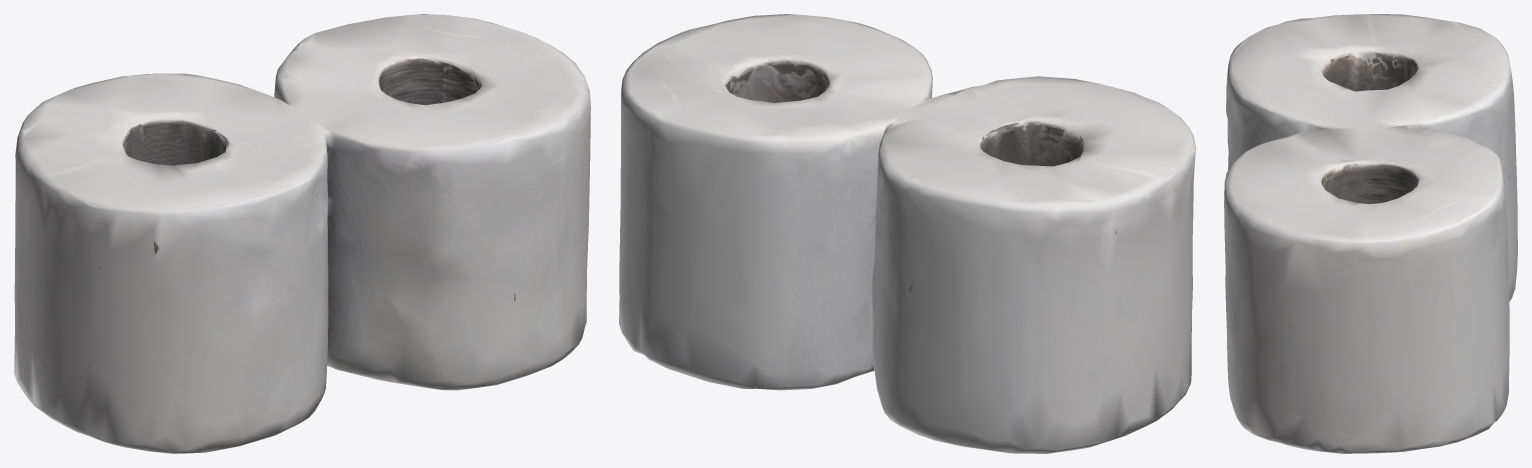
Rendered from react-paper_rolls-1dP70NAd.glb.
3 renders of one model, left to right at view 1: azimuth 30°, elevation 25°; view 2: azimuth 150°, elevation 25°; view 3: azimuth 270°, elevation 25°, orthographic. The views are drawn at different scales.
Parts seen in each view (by area): view 1: Meshy_Mesh_0.005; view 2: Meshy_Mesh_0.005; view 3: Meshy_Mesh_0.005.
Part boxes in pixels (x1=…): Meshy_Mesh_0.005: x1=14, y1=14, x2=590, y2=453; Meshy_Mesh_0.005: x1=619, y1=14, x2=1195, y2=453; Meshy_Mesh_0.005: x1=1224, y1=14, x2=1517, y2=453.
Bounding box in the file's own units: 0.2248 × 0.1049 × 0.1213.
1 material, 1 textured.
